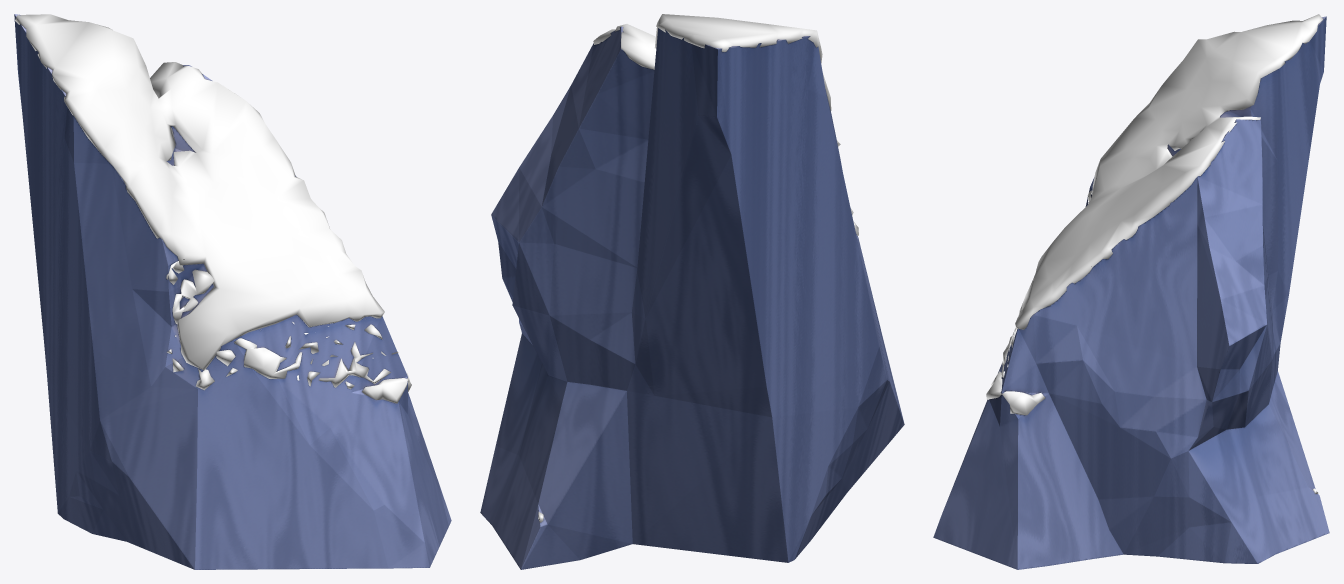
The model's file is rock-1.fbx.
3 views of the same model, side by side, from view 1: azimuth 30°, elevation 25°; view 2: azimuth 150°, elevation 25°; view 3: azimuth 270°, elevation 25° (orthographic). The views are drawn at different scales.
Parts seen in each view (by area): view 1: mdl_rock_1; view 2: mdl_rock_1; view 3: mdl_rock_1.
Boxes of the visible parts, bbox=[...] form: mdl_rock_1: bbox=[14, 14, 451, 569]; mdl_rock_1: bbox=[480, 14, 904, 569]; mdl_rock_1: bbox=[933, 14, 1329, 569].
Size of the model in its own units: 370 by 577 by 453.
